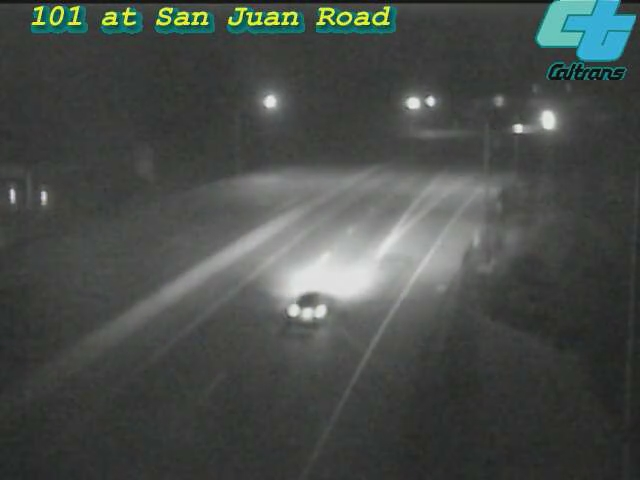vehicle: (276, 264, 356, 344), (495, 104, 545, 154), (524, 93, 574, 143)
